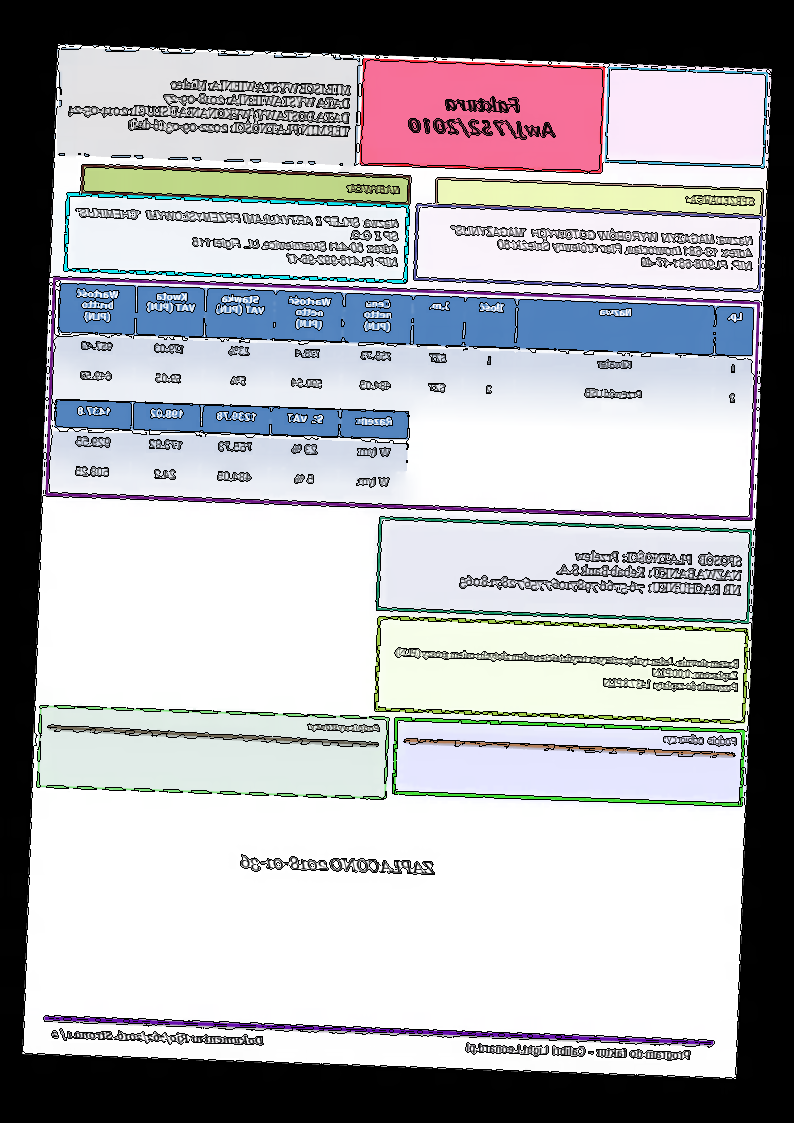Table: (55, 282, 755, 419), (51, 397, 411, 503)
TextBox: (72, 204, 403, 269), (65, 70, 353, 142), (458, 539, 744, 601), (392, 645, 740, 695), (447, 222, 755, 274), (404, 89, 560, 143), (463, 1038, 693, 1064), (235, 850, 439, 879), (49, 1024, 265, 1050), (662, 728, 739, 749), (684, 189, 758, 209), (308, 717, 383, 735), (346, 178, 404, 197)
